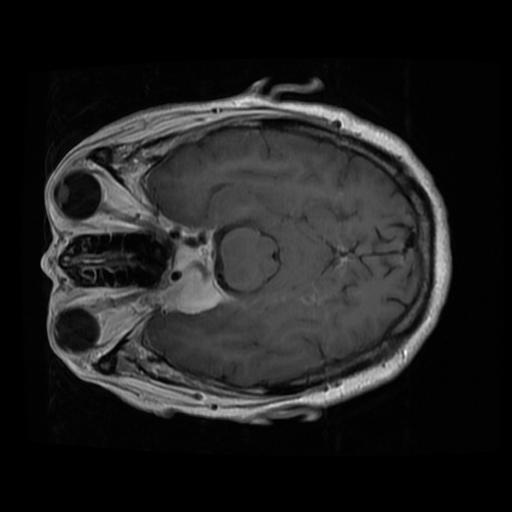meningioma: (161, 231, 224, 314)
